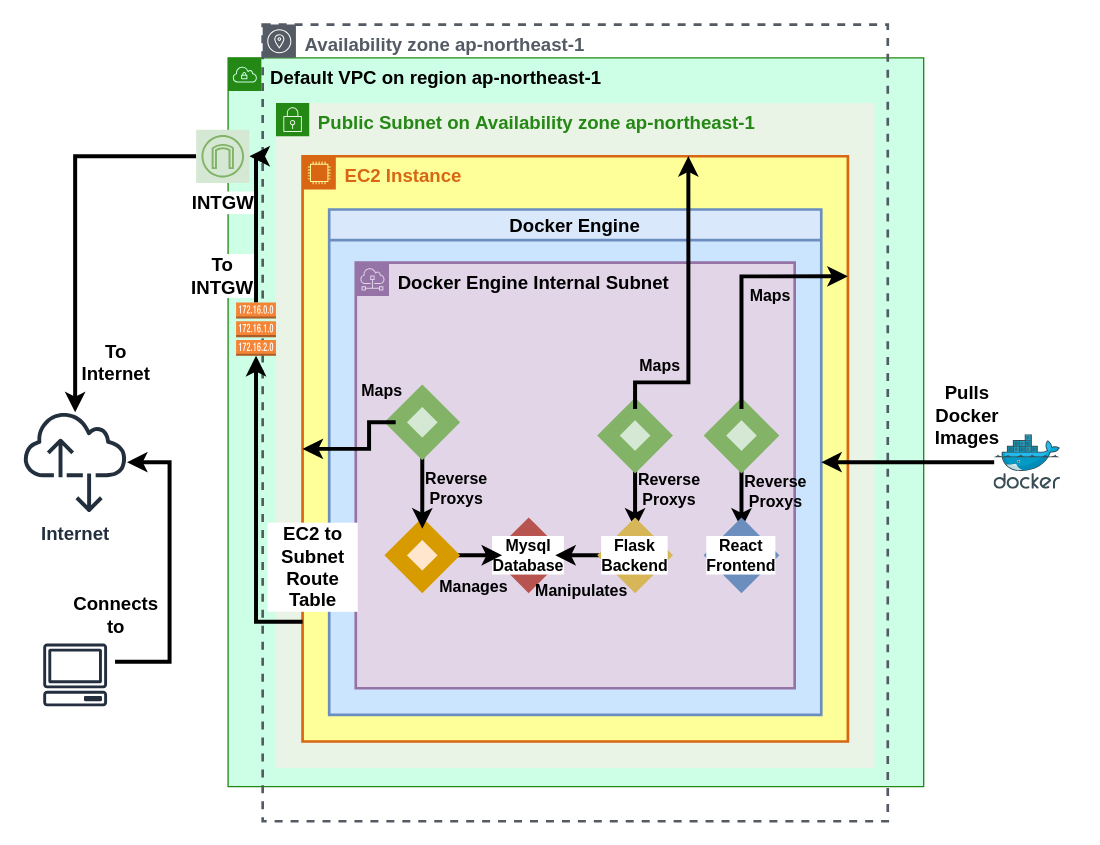
This 1100x845 diagram has some shape labels left out. The centre of each missing label's shape, as x and y in pixels:
Adminer: point 421,554
Adminer Nginx: point 421,421
Backend Nginx: point 634,434
Client: point 74,674
DockerHub: point 1027,461
Frontend Nginx: point 740,434
